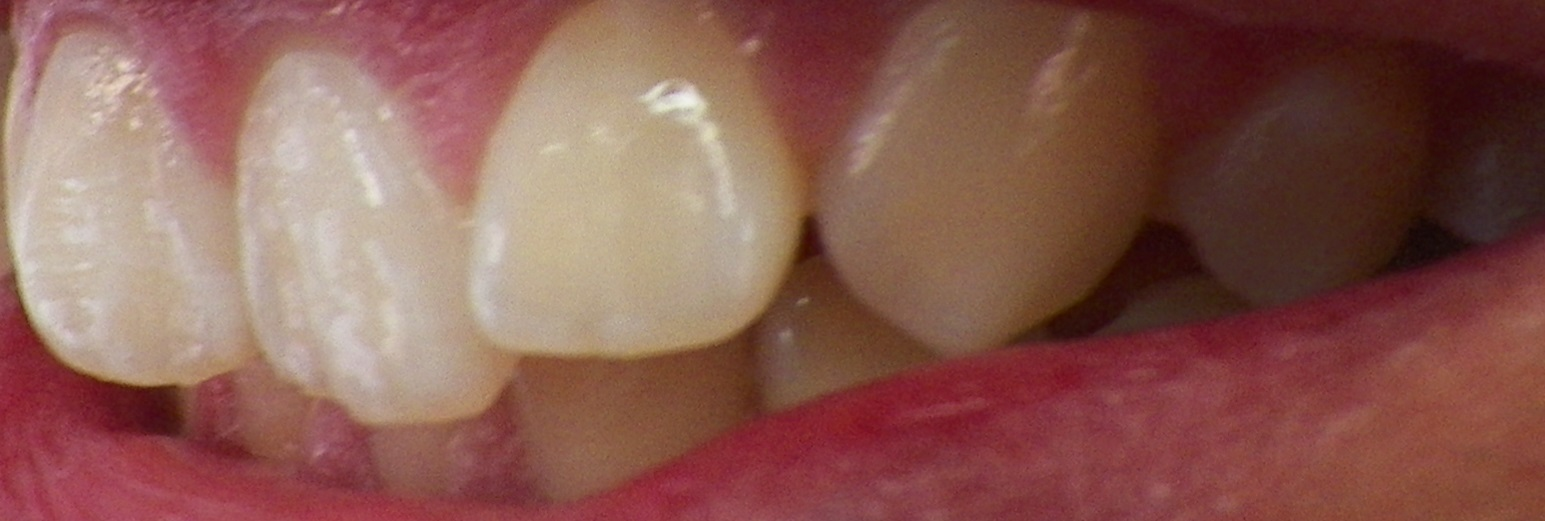boca: (12, 18, 1428, 498)
